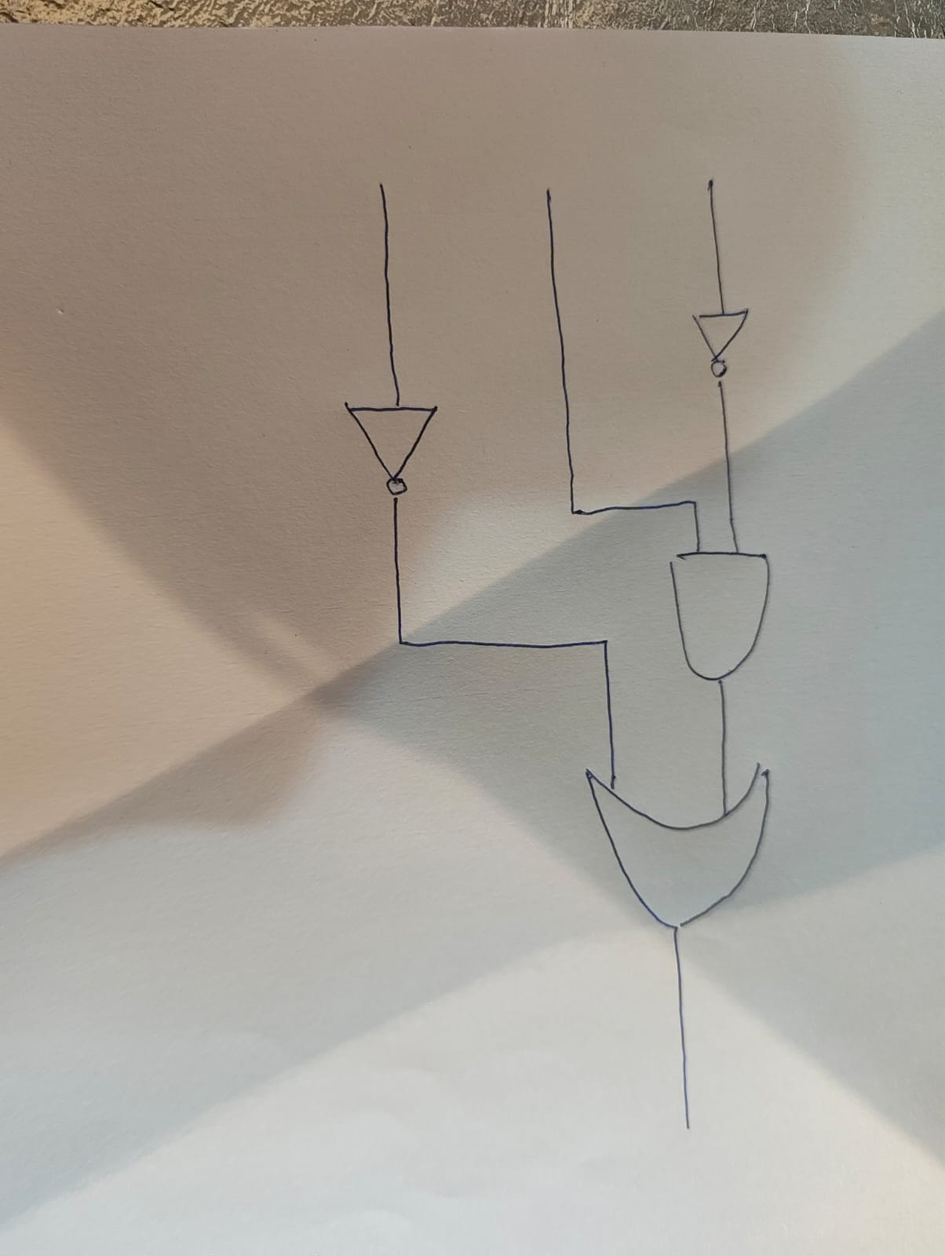and gate: (660, 547, 775, 683)
not gate: (337, 401, 449, 501), (686, 306, 755, 382)
or gate: (581, 756, 771, 940)
